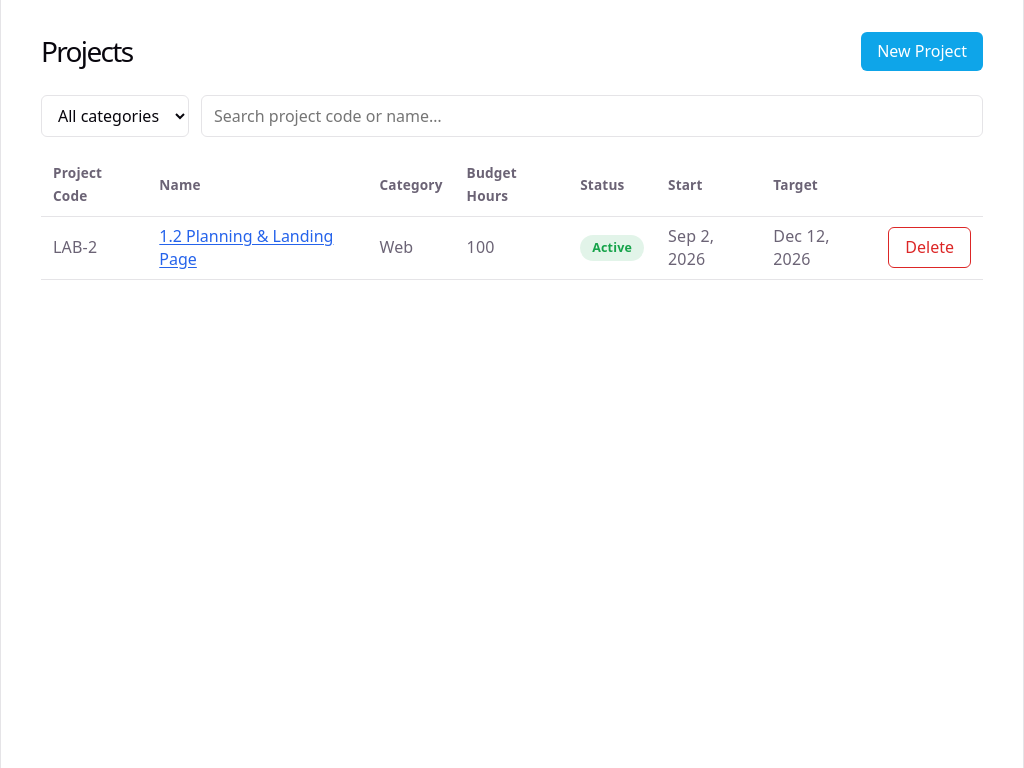
it: Projects page › shows empty-state message when project has no tasks
This screenshot has width=1024, height=768.
Click the button "1.2 Planning & Landing Page" at (257, 248), box [159, 225, 355, 271]
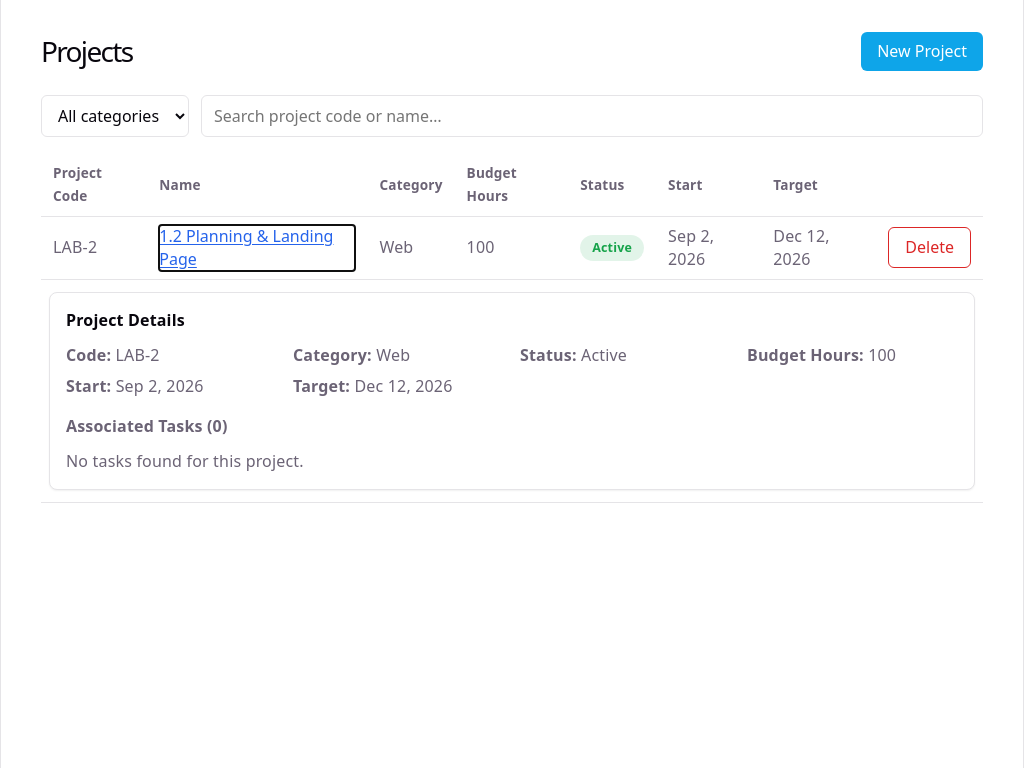
Now the text "No tasks found for this project." is shown, box [66, 450, 304, 472]
